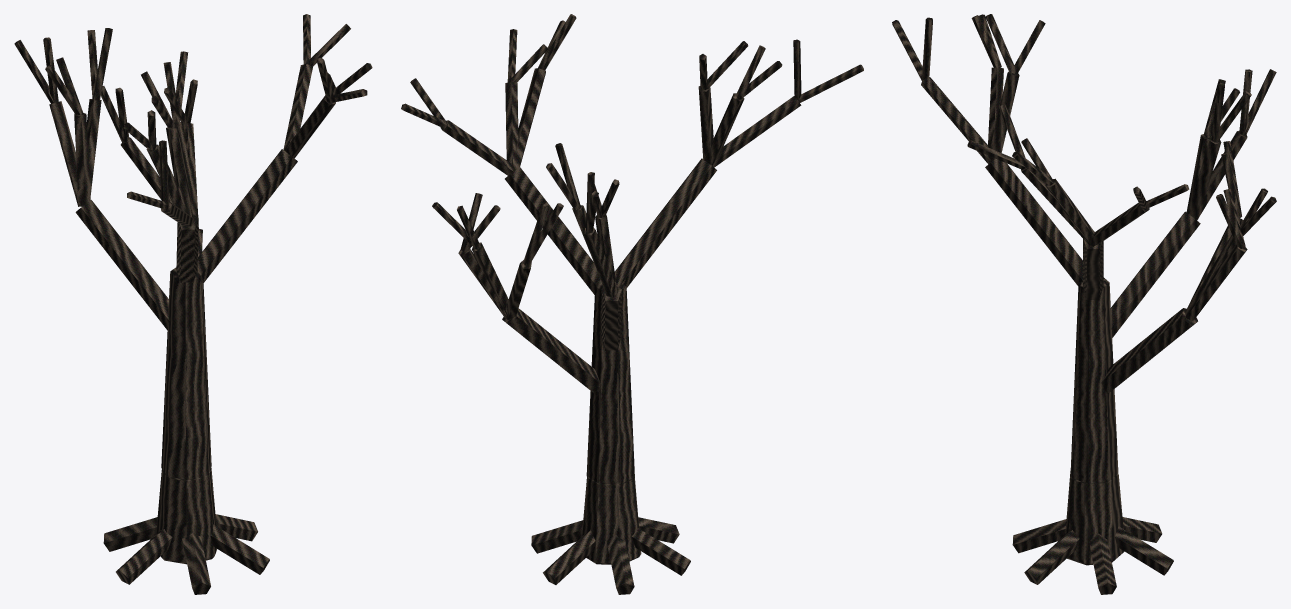
Rendered from prop_dead_tree.glb.
3 renders of one model, left to right at view 1: azimuth 30°, elevation 25°; view 2: azimuth 150°, elevation 25°; view 3: azimuth 270°, elevation 25°, orthographic. The views are drawn at different scales.
Visible parts, largest first — view 1: prop_dead_tree_mesh; view 2: prop_dead_tree_mesh; view 3: prop_dead_tree_mesh.
Part boxes in pixels (bbox=[...]): prop_dead_tree_mesh: bbox=[14, 14, 372, 594]; prop_dead_tree_mesh: bbox=[401, 14, 863, 594]; prop_dead_tree_mesh: bbox=[892, 14, 1276, 594].
Size of the model in its own units: 4.32 by 6.25 by 4.28.
1 material, 1 textured.
